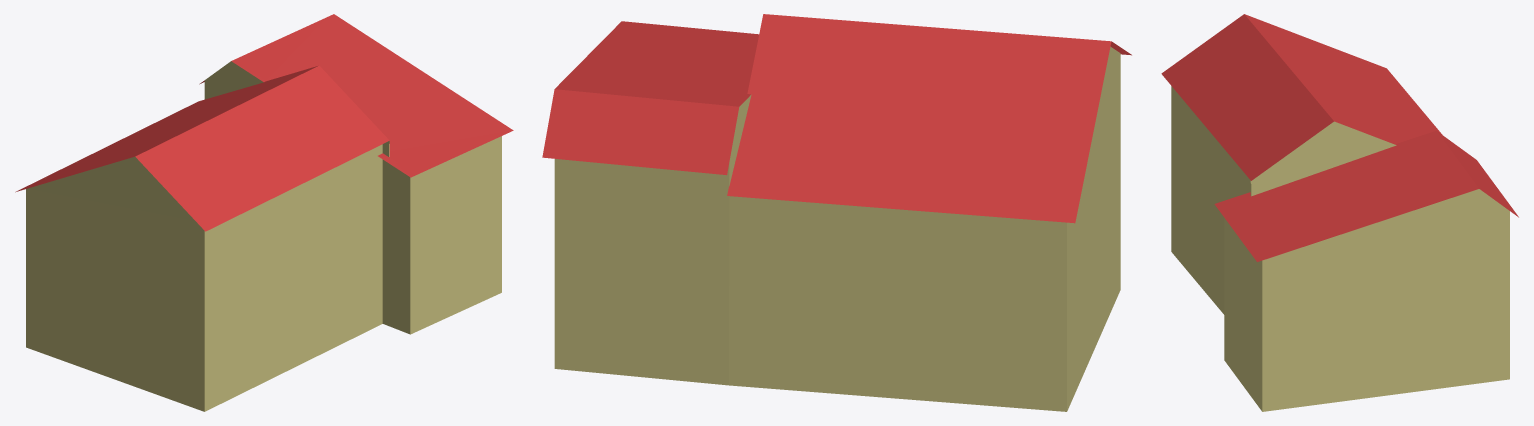
3 renders of one model, left to right at view 1: azimuth 30°, elevation 25°; view 2: azimuth 150°, elevation 25°; view 3: azimuth 270°, elevation 25°, orthographic. The views are drawn at different scales.
Bounding box in the file's own units: 15.05 × 11.39 × 7.83.
